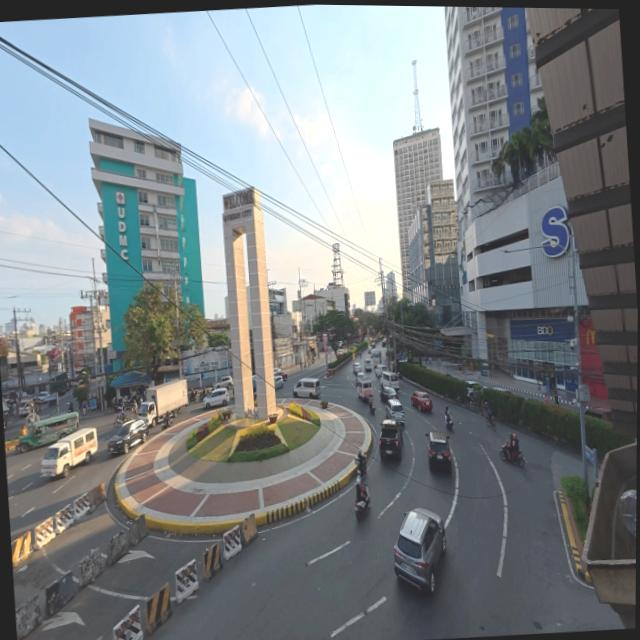Jeepneys: (19, 413, 79, 451)
car: (394, 508, 445, 592), (108, 420, 148, 453), (426, 430, 452, 472), (385, 398, 405, 425), (203, 388, 229, 408), (412, 390, 433, 411), (586, 407, 612, 421), (467, 380, 483, 397), (380, 387, 398, 401), (215, 376, 233, 389), (492, 386, 515, 395), (274, 367, 287, 380), (274, 375, 284, 389), (375, 366, 387, 377), (36, 392, 49, 402), (364, 358, 372, 372), (353, 362, 361, 373), (336, 349, 343, 357), (357, 372, 365, 379), (380, 340, 387, 348), (370, 343, 375, 350)
motorcycle: (354, 481, 370, 520), (501, 444, 525, 467), (114, 412, 127, 428), (162, 414, 173, 429), (445, 415, 454, 430), (369, 397, 376, 415), (4, 418, 7, 429)
trucks: (138, 380, 188, 427), (379, 420, 403, 459)
vans: (41, 427, 98, 477), (292, 377, 321, 399), (358, 378, 372, 400), (381, 372, 399, 389), (19, 400, 34, 415)
